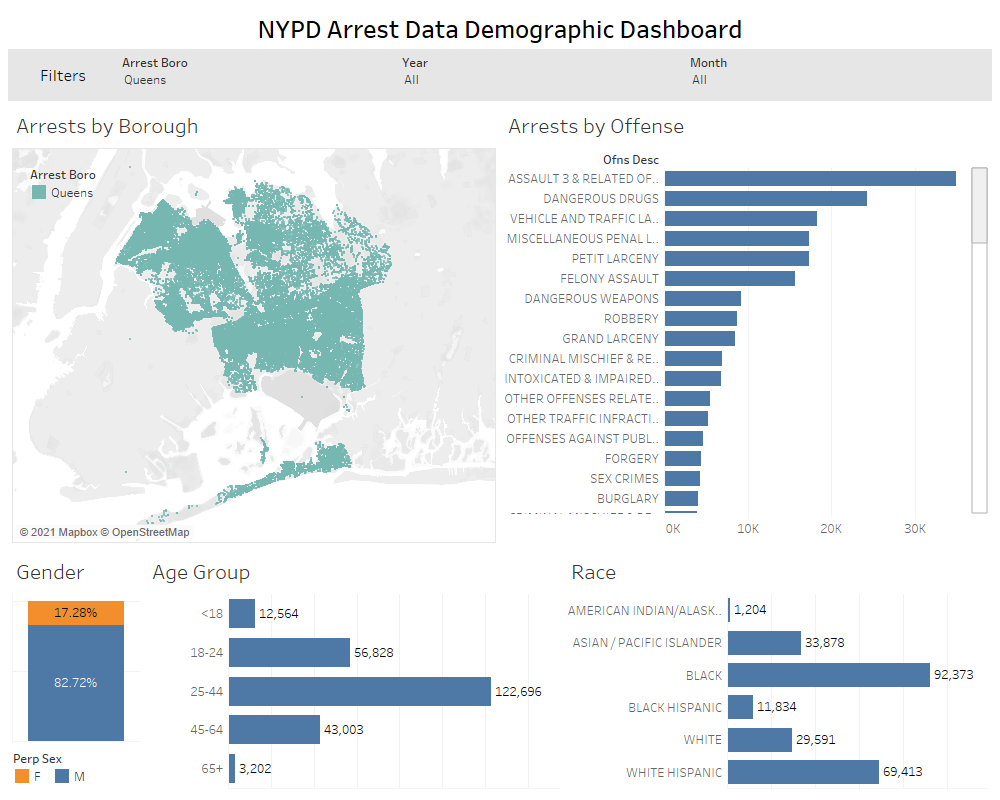

The page's visual inventory and layout, read from the dashboard file:
{"tool":"tableau","page":{"name":"NYPD Arrest Data Demographic Dashboard","canvas":[1000,800],"ordinal":0},"visuals":[{"type":"title","box":[8,8,984,41]},{"type":"text","box":[8,49,110,52]},{"type":"filter","title":"Arrests by Offense Type","param":"[federated.0u0g2jr0y9b0lh1fggo9v036ljvq].[none:ARREST_BORO:nk]","box":[118,49,280,52]},{"type":"filter","title":"Arrests by Offense Type","param":"[federated.0u0g2jr0y9b0lh1fggo9v036ljvq].[yr:ARREST_DATE:ok]","box":[398,49,288,52]},{"type":"filter","title":"Arrests by Offense Type","param":"[federated.0u0g2jr0y9b0lh1fggo9v036ljvq].[mn:ARREST_DATE:ok]","box":[686,49,306,52]},{"type":"worksheet","title":"Arrests by Borough","mark":"Automatic","rows":["Latitude"],"cols":["Longitude"],"box":[8,101,492,445.8]},{"type":"worksheet","title":"Arrests by Offense Type","mark":"Automatic","rows":["OFNS_DESC"],"cols":["ARREST_DATE"],"box":[500,101,492,445.8]},{"type":"legend","title":"Arrests by Borough","param":"[federated.0u0g2jr0y9b0lh1fggo9v036ljvq].[none:ARREST_BORO:nk]","box":[29,164,140,118]},{"type":"worksheet","title":"Gender","mark":"Automatic","rows":["ARREST_DATE"],"box":[8,546.8,136,197.5]},{"type":"worksheet","title":"Age Group","mark":"Automatic","rows":["AGE_GROUP"],"cols":["ARREST_DATE"],"box":[144,546.8,419,245.2]},{"type":"worksheet","title":"Race","mark":"Automatic","rows":["PERP_RACE"],"cols":["ARREST_DATE"],"box":[563,546.8,429,245.2]},{"type":"legend","title":"Gender","param":"[federated.0u0g2jr0y9b0lh1fggo9v036ljvq].[none:PERP_SEX:nk]","box":[8,744.4,136,47.6]}]}

Visuals, with their boxes in screenshot pixels (x1, y1, x2, y2), scaled from the page's 1000x800 canvas onto the 1000x800 screenshot:
title: BBox(8, 8, 992, 49)
text: BBox(8, 49, 118, 101)
"Arrests by Offense Type" filter: BBox(118, 49, 398, 101)
"Arrests by Offense Type" filter: BBox(398, 49, 686, 101)
"Arrests by Offense Type" filter: BBox(686, 49, 992, 101)
"Arrests by Borough" worksheet: BBox(8, 101, 500, 547)
"Arrests by Offense Type" worksheet: BBox(500, 101, 992, 547)
"Arrests by Borough" legend: BBox(29, 164, 169, 282)
"Gender" worksheet: BBox(8, 547, 144, 744)
"Age Group" worksheet: BBox(144, 547, 563, 792)
"Race" worksheet: BBox(563, 547, 992, 792)
"Gender" legend: BBox(8, 744, 144, 792)
